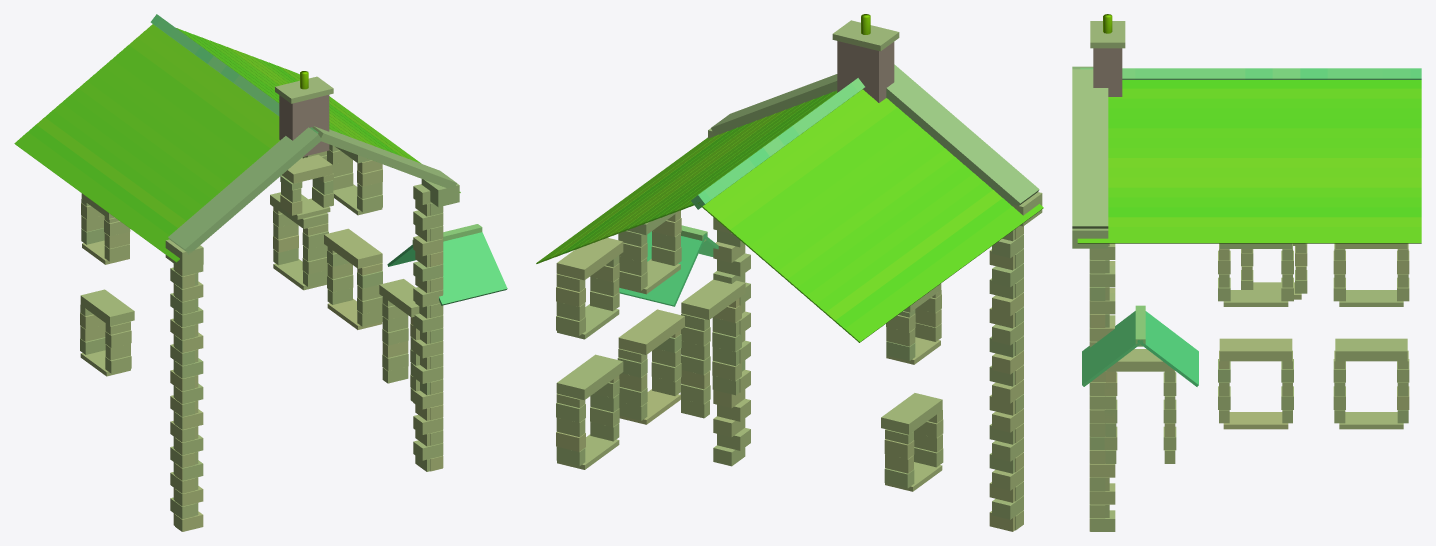
The model's file is SM_Bld_088_Stone.glb.
3 renders of one model, left to right at view 1: azimuth 30°, elevation 25°; view 2: azimuth 150°, elevation 25°; view 3: azimuth 270°, elevation 25°, orthographic. The views are drawn at different scales.
Visible parts, largest first — view 1: SM_Bld_088_Stone; view 2: SM_Bld_088_Stone; view 3: SM_Bld_088_Stone.
Part boxes in pixels (x1,y1,x2,y2): SM_Bld_088_Stone: (14,14,507,531); SM_Bld_088_Stone: (536,14,1043,531); SM_Bld_088_Stone: (1072,14,1421,531).
Size of the model in its own units: 8.2 by 9.89 by 6.99.
